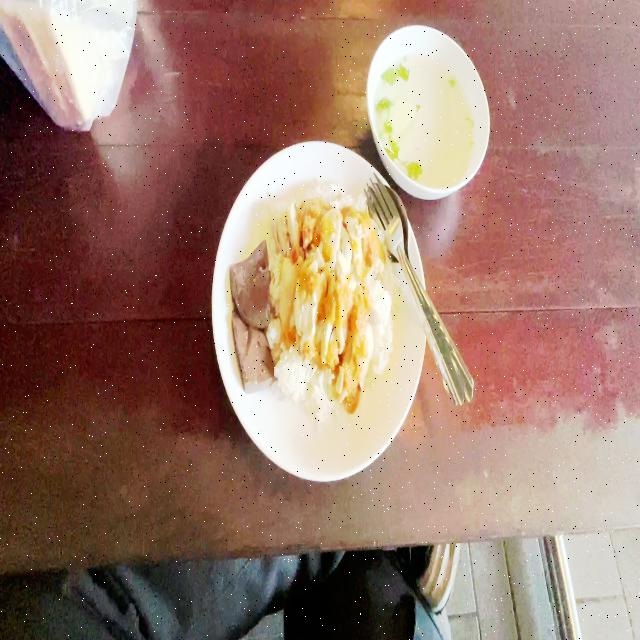boiled_chicken: (274, 204, 372, 358)
boiled_chicken_blood_jelly: (225, 233, 274, 328), (228, 313, 270, 391)
chicken_rice: (220, 182, 406, 416)
